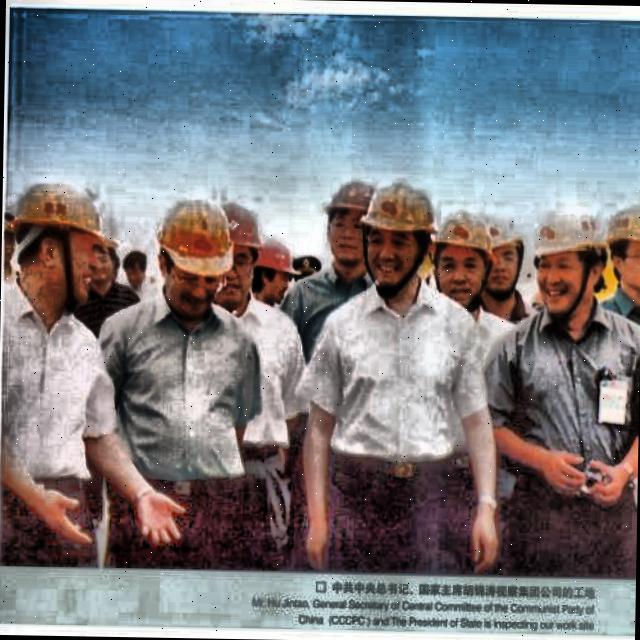helmet: (10, 166, 113, 319), (148, 188, 232, 314), (527, 207, 609, 325), (359, 175, 434, 288), (430, 206, 497, 310), (316, 170, 378, 280), (480, 212, 527, 304), (610, 202, 640, 312), (223, 212, 259, 300), (252, 242, 297, 311)
